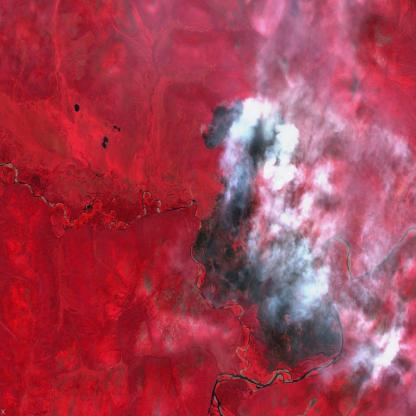fire: (197, 92, 297, 227)
